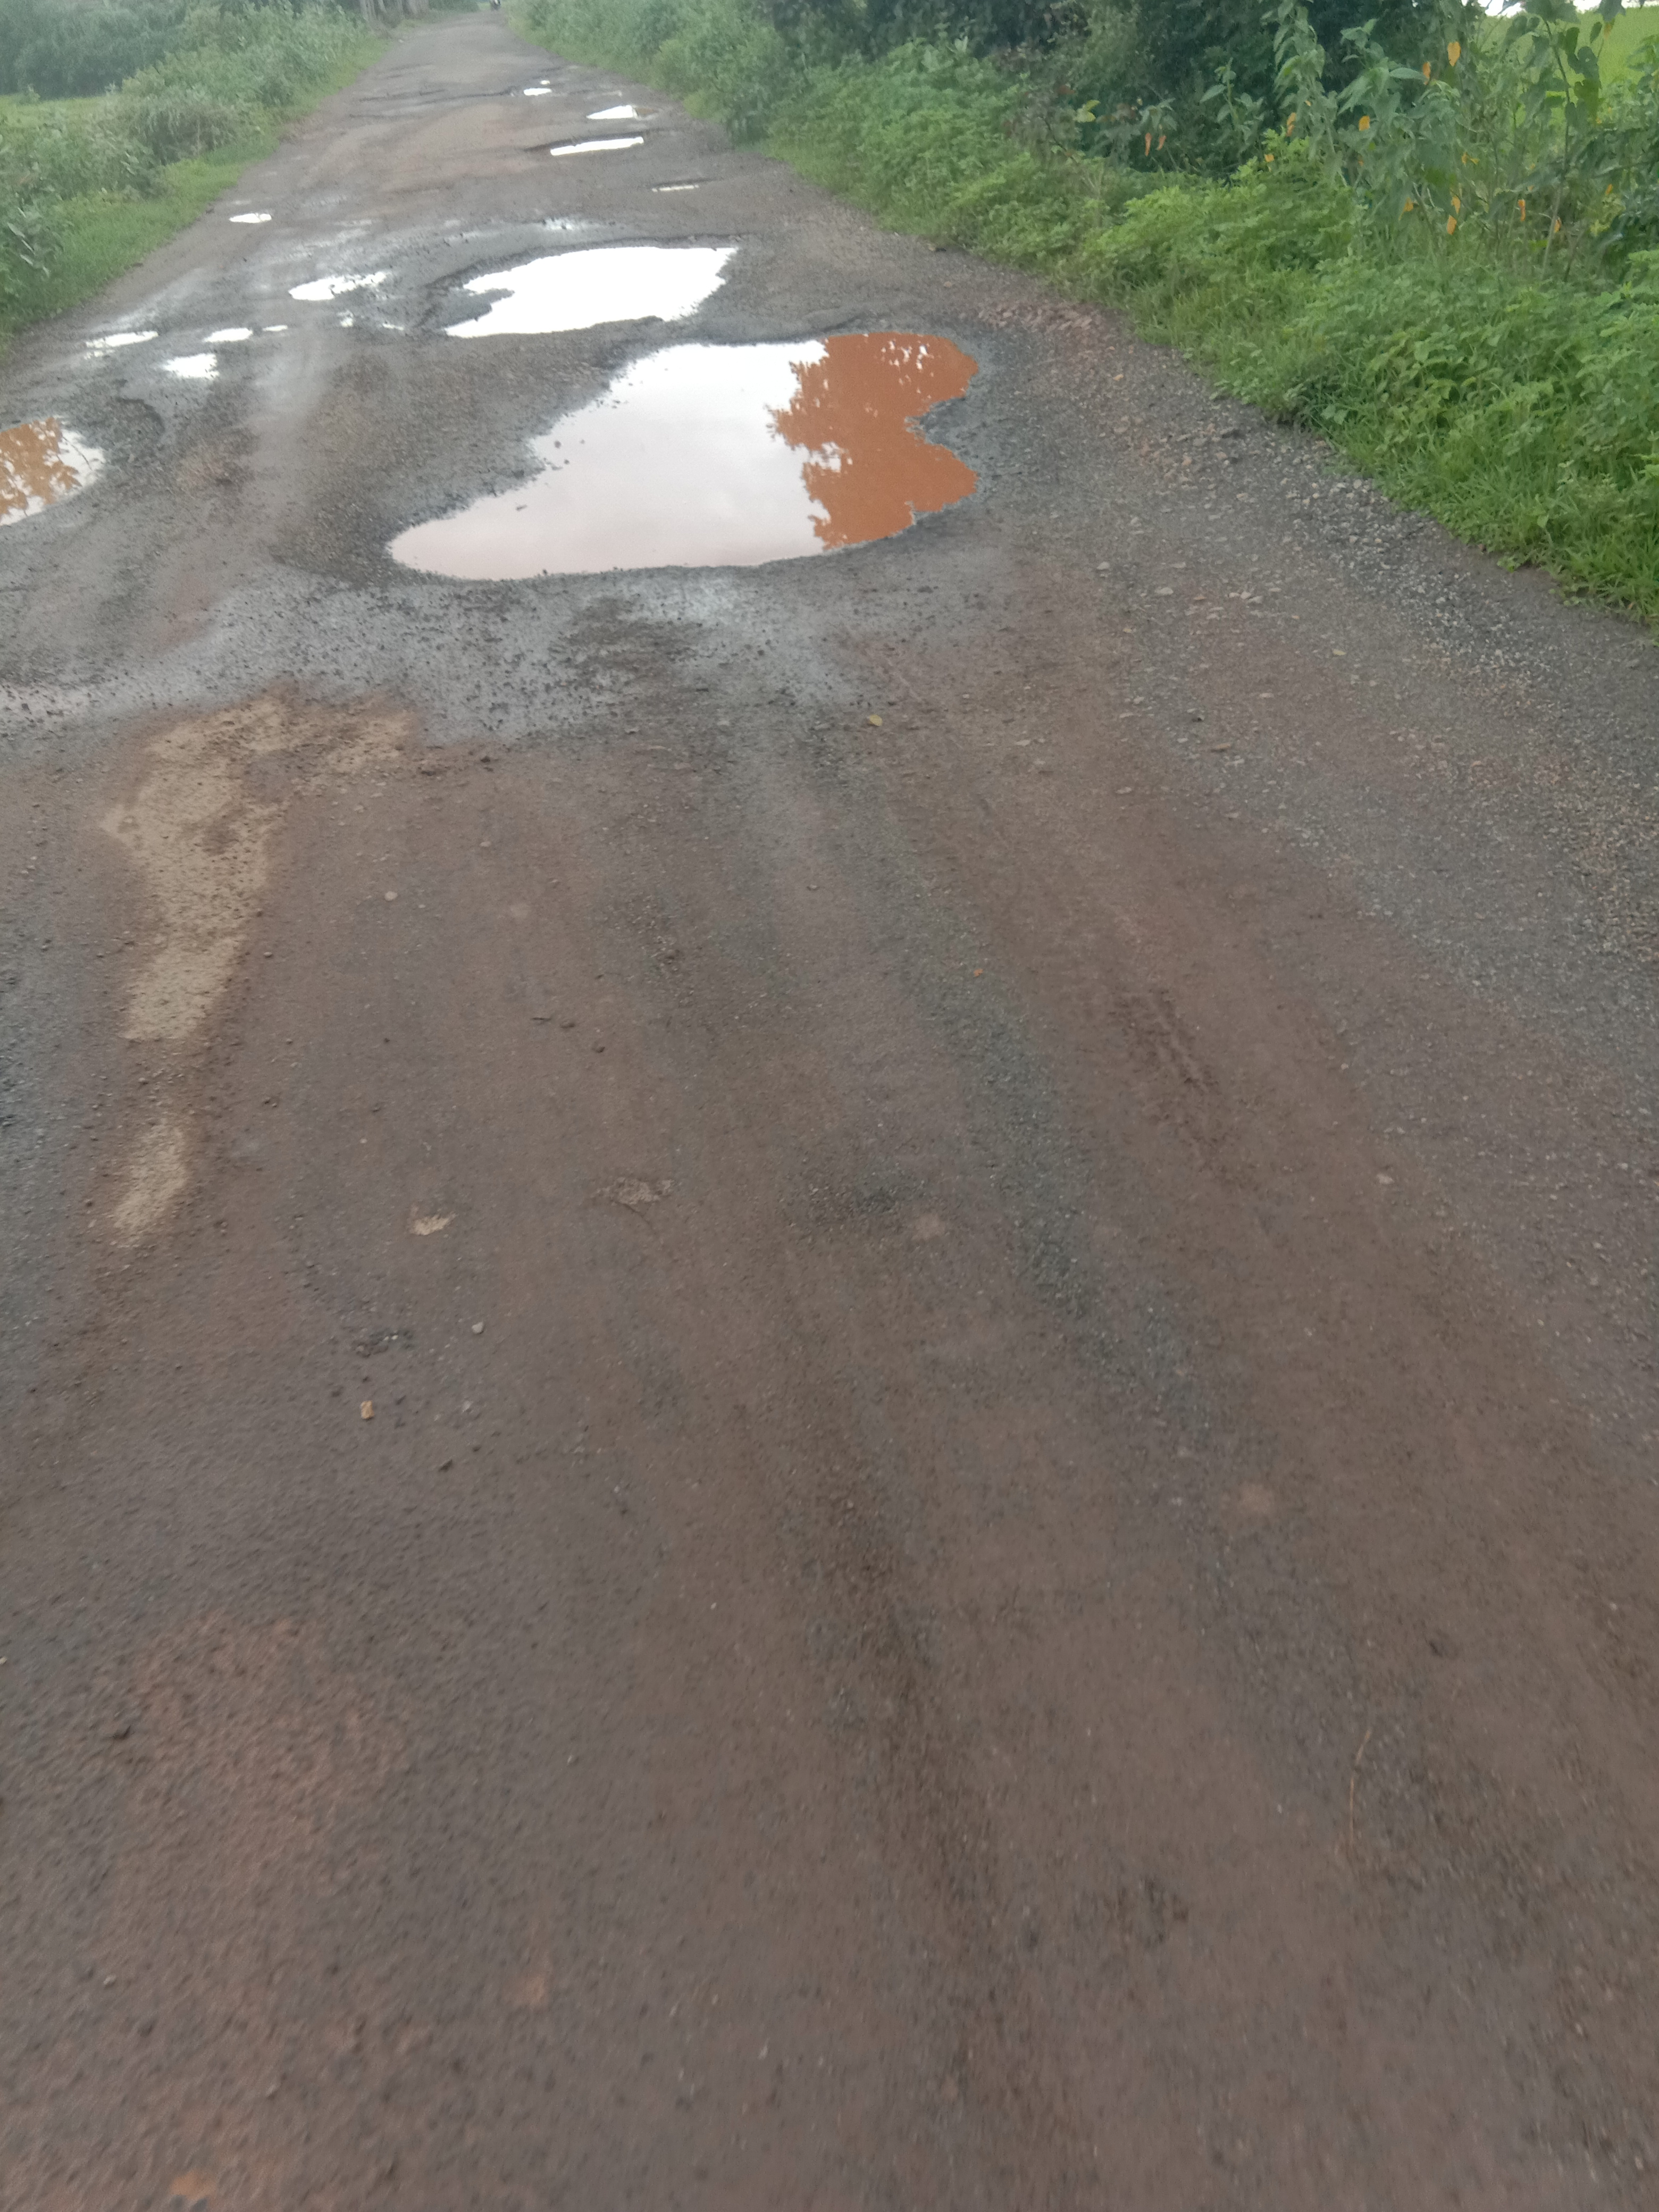potholes: (366, 319, 1047, 631), (416, 237, 767, 369), (68, 308, 300, 401), (505, 75, 685, 192), (0, 408, 139, 542), (218, 199, 293, 244)
